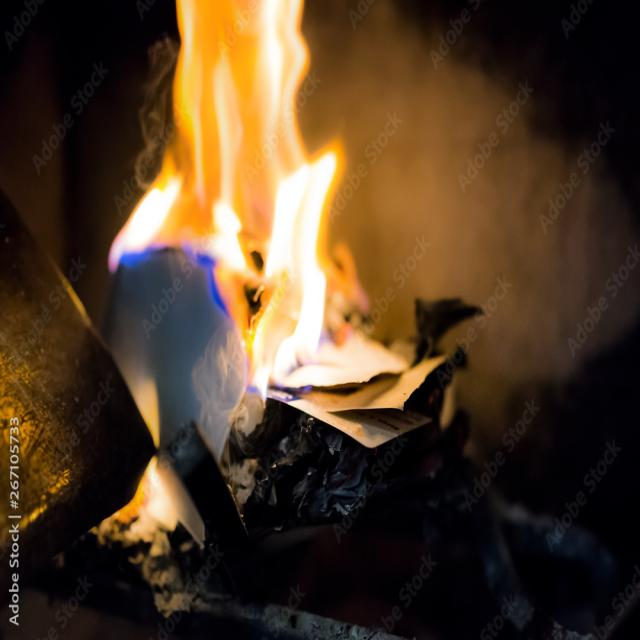fire: (108, 0, 410, 409), (89, 455, 178, 558)
